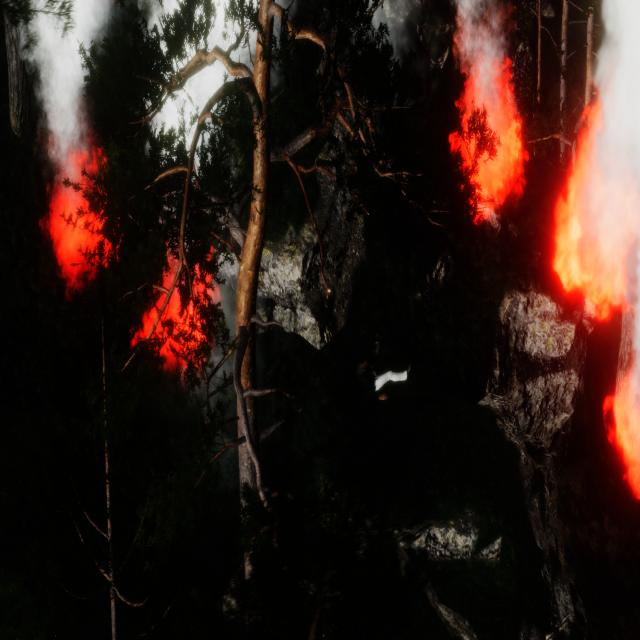Human: (348, 336, 418, 406)
